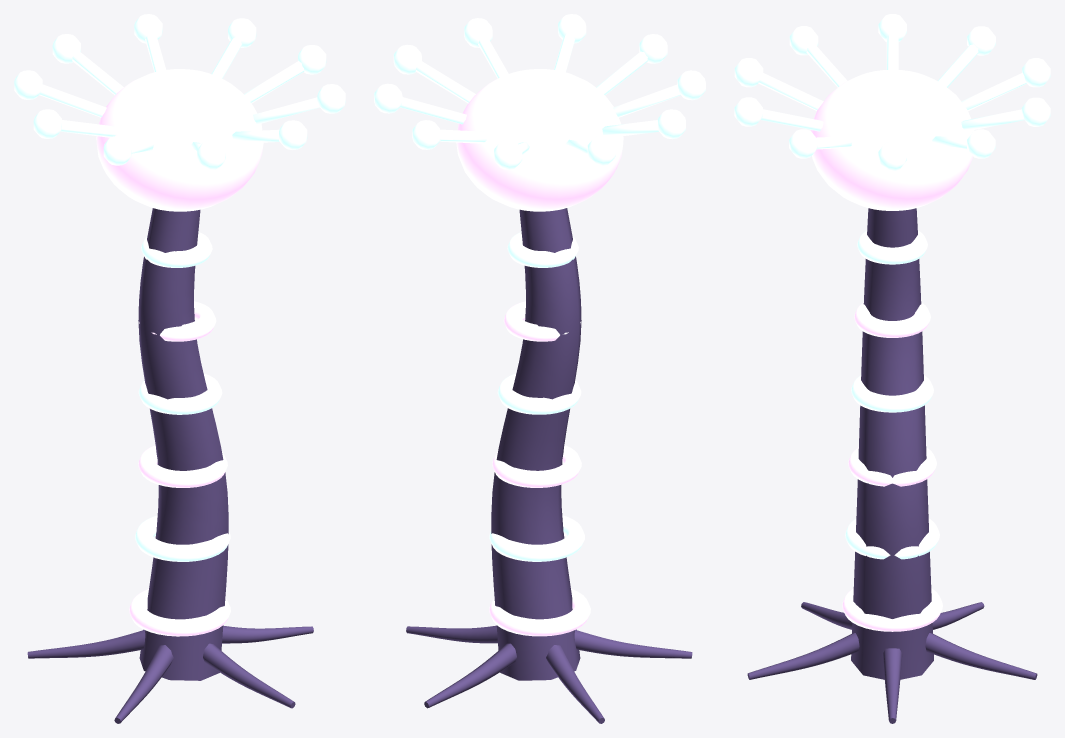
The model's file is E32_Synapse_Tower.glb.
3 renders of one model, left to right at view 1: azimuth 30°, elevation 25°; view 2: azimuth 150°, elevation 25°; view 3: azimuth 270°, elevation 25°, orthographic.
Visible parts, largest first — view 1: E32_Synapse_Tower_Mesh; view 2: E32_Synapse_Tower_Mesh; view 3: E32_Synapse_Tower_Mesh.
Part boxes in pixels (x1,y1,x2,y2): E32_Synapse_Tower_Mesh: [14, 14, 345, 723]; E32_Synapse_Tower_Mesh: [374, 14, 705, 723]; E32_Synapse_Tower_Mesh: [734, 14, 1050, 723].
Size of the model in its own units: 4.36 by 8.55 by 4.19.
